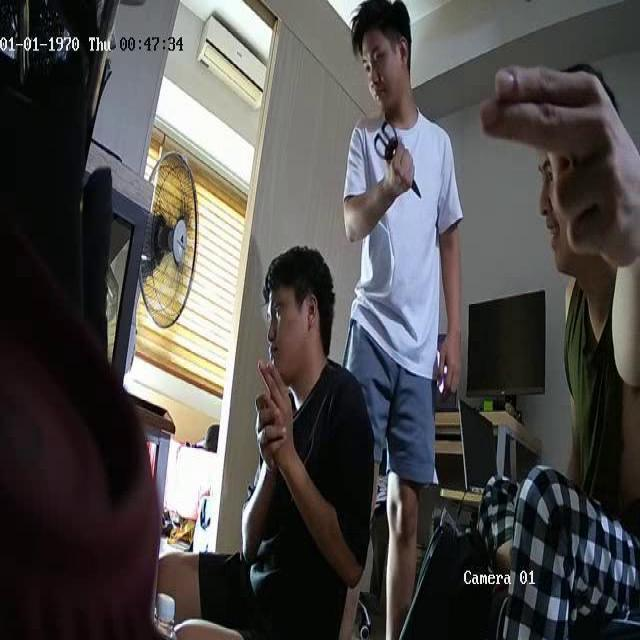scissor: (374, 121, 422, 199)
